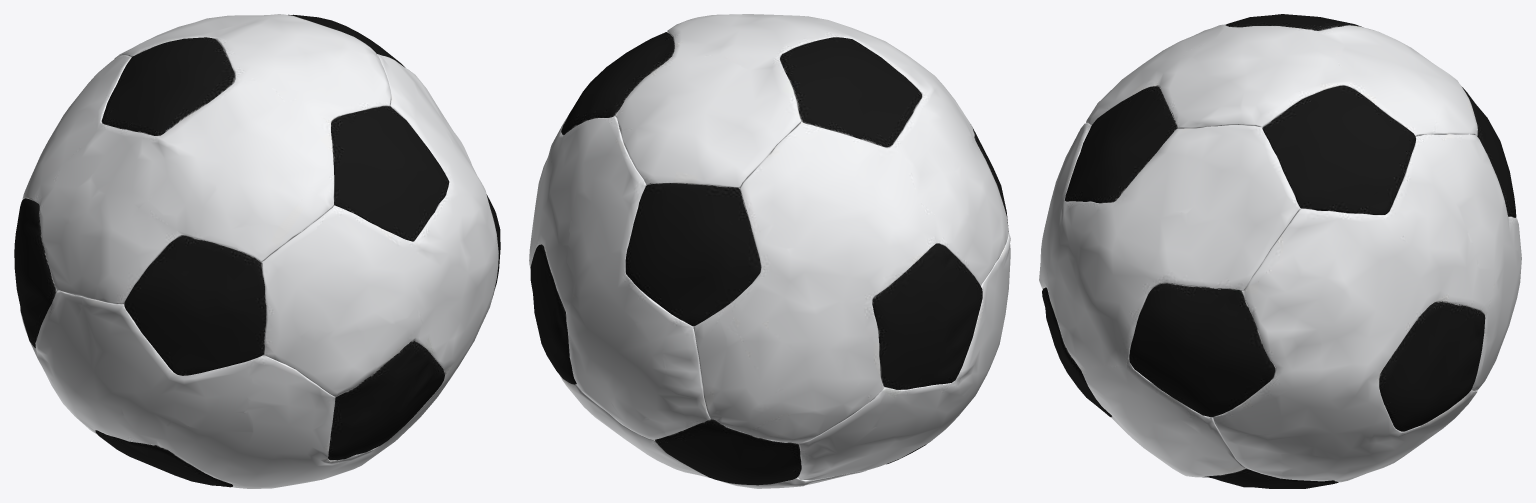
File: sparka_pluszak_20506763.glb
The picture shows the model from 3 angles, left to right: view 1: azimuth 30°, elevation 25°; view 2: azimuth 150°, elevation 25°; view 3: azimuth 270°, elevation 25°; orthographic projection. The views are drawn at different scales.
Visible parts, largest first — view 1: sparka_pluszak_20506763; view 2: sparka_pluszak_20506763; view 3: sparka_pluszak_20506763.
Part boxes in pixels (x1=…): sparka_pluszak_20506763: x1=14, y1=14, x2=500, y2=488; sparka_pluszak_20506763: x1=529, y1=14, x2=1010, y2=488; sparka_pluszak_20506763: x1=1039, y1=14, x2=1521, y2=488.
Size of the model in its own units: 0.202 by 0.1869 by 0.2014.
Materials: 1 (1 with a texture image).
